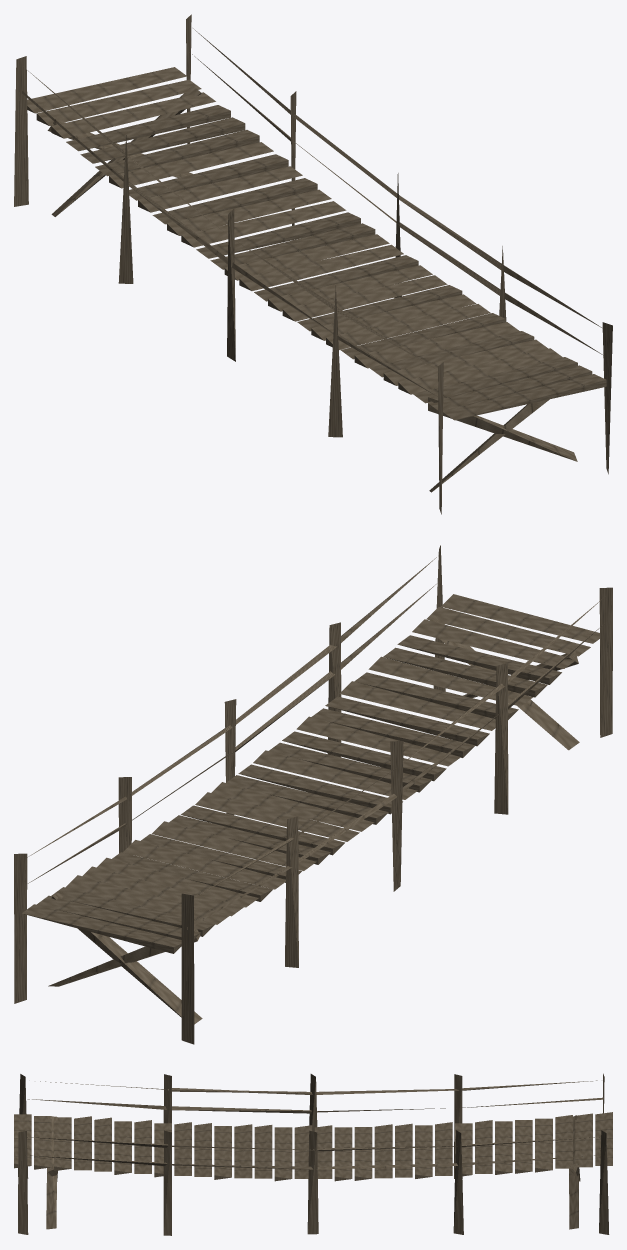
File: wood_bridge_v02_lod.glb
The picture shows the model from 3 angles, top to bottom: view 1: azimuth 30°, elevation 25°; view 2: azimuth 150°, elevation 25°; view 3: azimuth 270°, elevation 25°; orthographic projection. The views are drawn at different scales.
Parts seen in each view (by area): view 1: wood_bridge_v02; view 2: wood_bridge_v02; view 3: wood_bridge_v02.
Part boxes in pixels (box(x1,y1,x2,y2)): wood_bridge_v02: box(14, 14, 612, 514); wood_bridge_v02: box(14, 545, 612, 1044); wood_bridge_v02: box(14, 1073, 612, 1235).
Bounding box in the file's own units: 4.93 × 3.9 × 20.62.
1 material, 1 textured.
